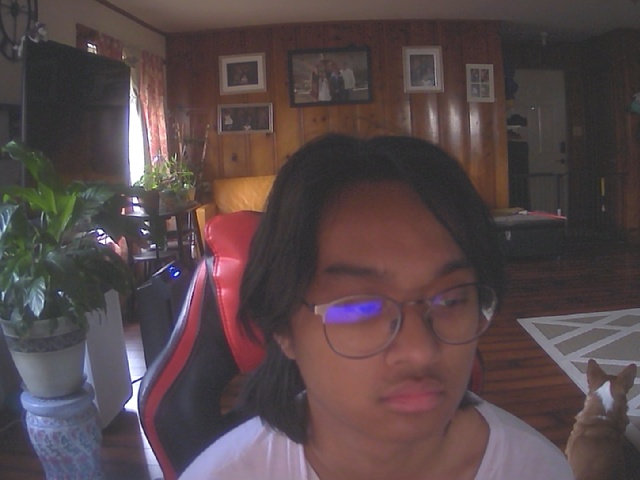neutral: (264, 134, 504, 452)
